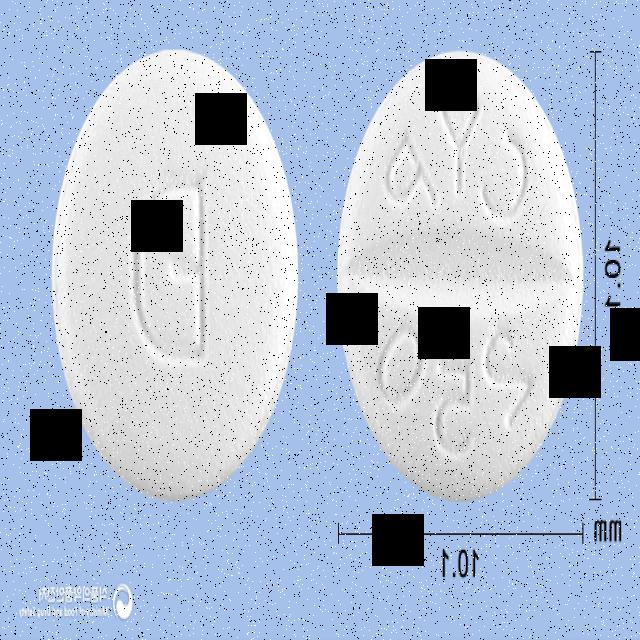Bearcin - 500mg: (332, 48, 586, 507), (48, 47, 300, 504)
